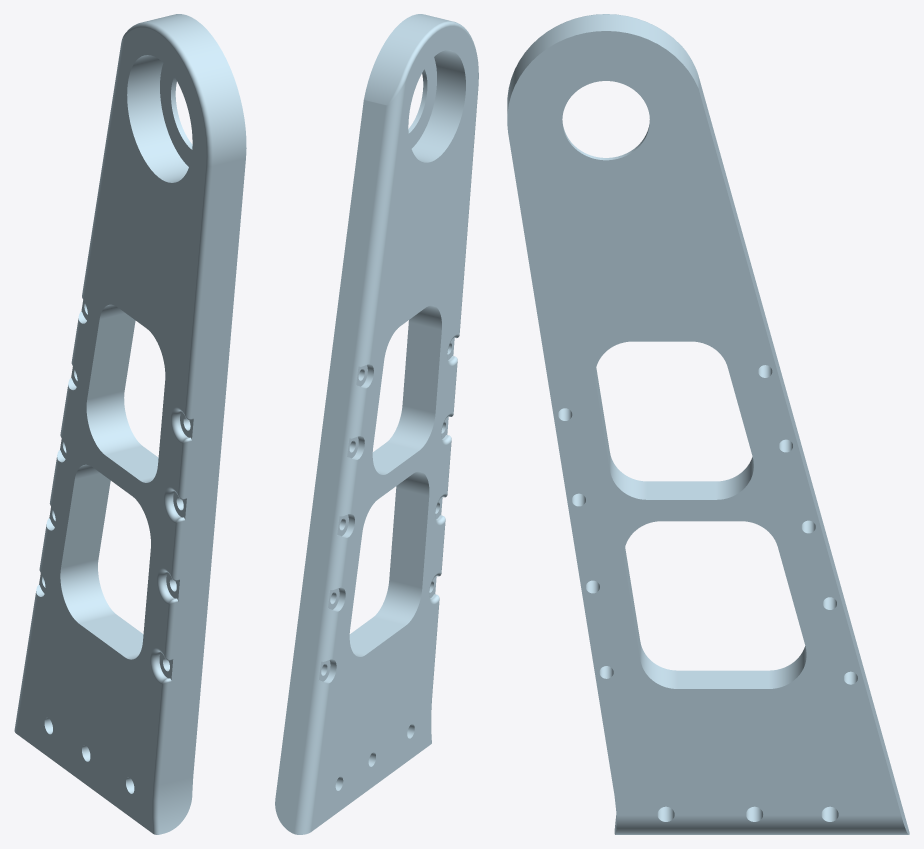
The picture shows the model from 3 angles, left to right: view 1: azimuth 30°, elevation 25°; view 2: azimuth 150°, elevation 25°; view 3: azimuth 270°, elevation 25°; orthographic projection. The views are drawn at different scales.
Visible parts, largest first — view 1: mesh3832, mesh3816, mesh3779, mesh3751, mesh3757, mesh3765, mesh3766, mesh3758, mesh3841, mesh3782, mesh3759, mesh3774 (+4 smaller); view 2: mesh3832, mesh3772, mesh3841, mesh3751, mesh3753, mesh3779, mesh3761, mesh3768, mesh3760, mesh3759, mesh3750, mesh3767 (+3 smaller); view 3: mesh3752, mesh3773, mesh3779, mesh3772, mesh3759, mesh3767, mesh3760, mesh3768.
Part boxes in pixels (bbox=[...]): mesh3832: bbox=[16, 27, 206, 833]; mesh3816: bbox=[159, 158, 245, 784]; mesh3779: bbox=[143, 14, 246, 165]; mesh3751: bbox=[127, 55, 188, 182]; mesh3757: bbox=[61, 473, 110, 568]; mesh3765: bbox=[87, 313, 135, 399]; mesh3766: bbox=[86, 390, 142, 455]; mesh3758: bbox=[60, 559, 116, 623]; mesh3841: bbox=[14, 38, 124, 733]; mesh3782: bbox=[185, 165, 212, 418]; mesh3759: bbox=[79, 614, 143, 656]; mesh3774: bbox=[159, 777, 193, 834]; mesh3832: bbox=[311, 26, 478, 831]; mesh3772: bbox=[275, 100, 385, 833]; mesh3841: bbox=[294, 81, 405, 834]; mesh3751: bbox=[411, 50, 465, 162]; mesh3753: bbox=[389, 488, 429, 587]; mesh3779: bbox=[364, 14, 451, 104]; mesh3761: bbox=[402, 322, 441, 412]; mesh3768: bbox=[386, 405, 435, 450]; mesh3760: bbox=[373, 580, 422, 625]; mesh3759: bbox=[349, 617, 405, 654]; mesh3750: bbox=[408, 57, 436, 148]; mesh3767: bbox=[372, 442, 418, 472]; mesh3752: bbox=[507, 31, 900, 815]; mesh3773: bbox=[615, 815, 908, 834]; mesh3779: bbox=[507, 14, 698, 113]; mesh3772: bbox=[698, 77, 909, 834]; mesh3759: bbox=[677, 670, 768, 688]; mesh3767: bbox=[647, 481, 716, 499]; mesh3760: bbox=[640, 642, 677, 688]; mesh3768: bbox=[610, 453, 647, 499].
Bounding box in the file's own units: 0.00928 × 0.1909 × 0.0854.
